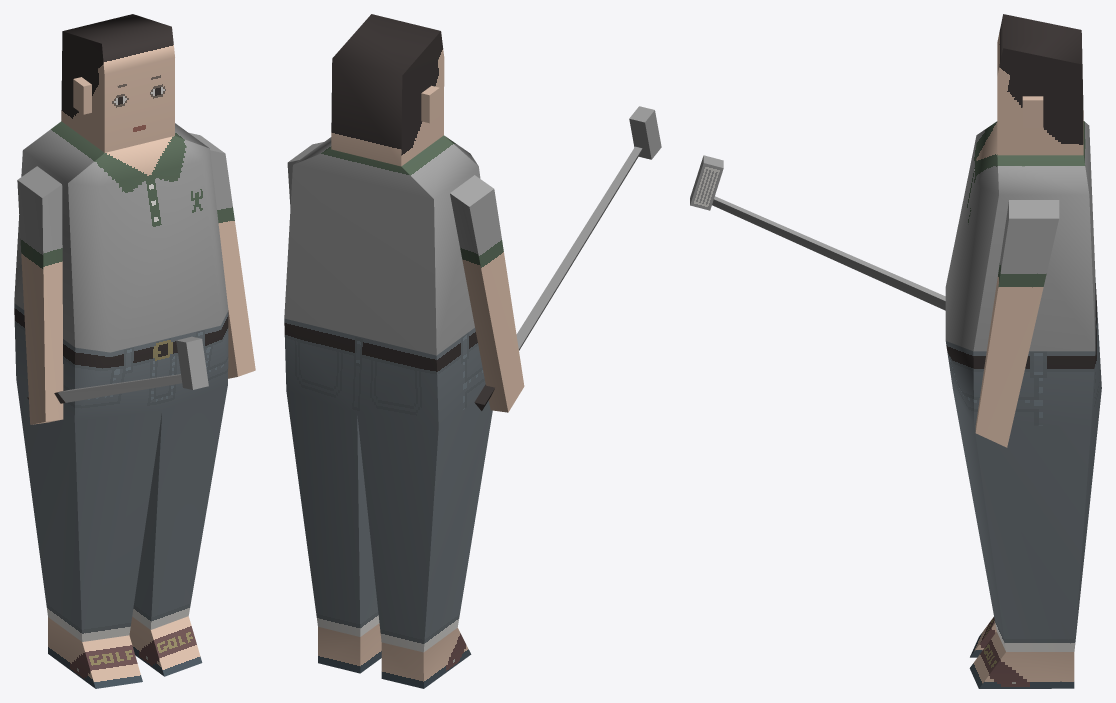
The model's file is 0591_Golfer_Guy.glb.
The picture shows the model from 3 angles, left to right: view 1: azimuth 30°, elevation 25°; view 2: azimuth 150°, elevation 25°; view 3: azimuth 270°, elevation 25°; orthographic projection.
Parts seen in each view (by area): view 1: part_0; view 2: part_0; view 3: part_0.
Part boxes in pixels (x1=…): part_0: x1=14, y1=14, x2=255, y2=688; part_0: x1=284, y1=14, x2=661, y2=688; part_0: x1=690, y1=14, x2=1101, y2=688.
Bounding box in the file's own units: 0.5234 × 1.5 × 0.888.
1 material, 1 textured.
